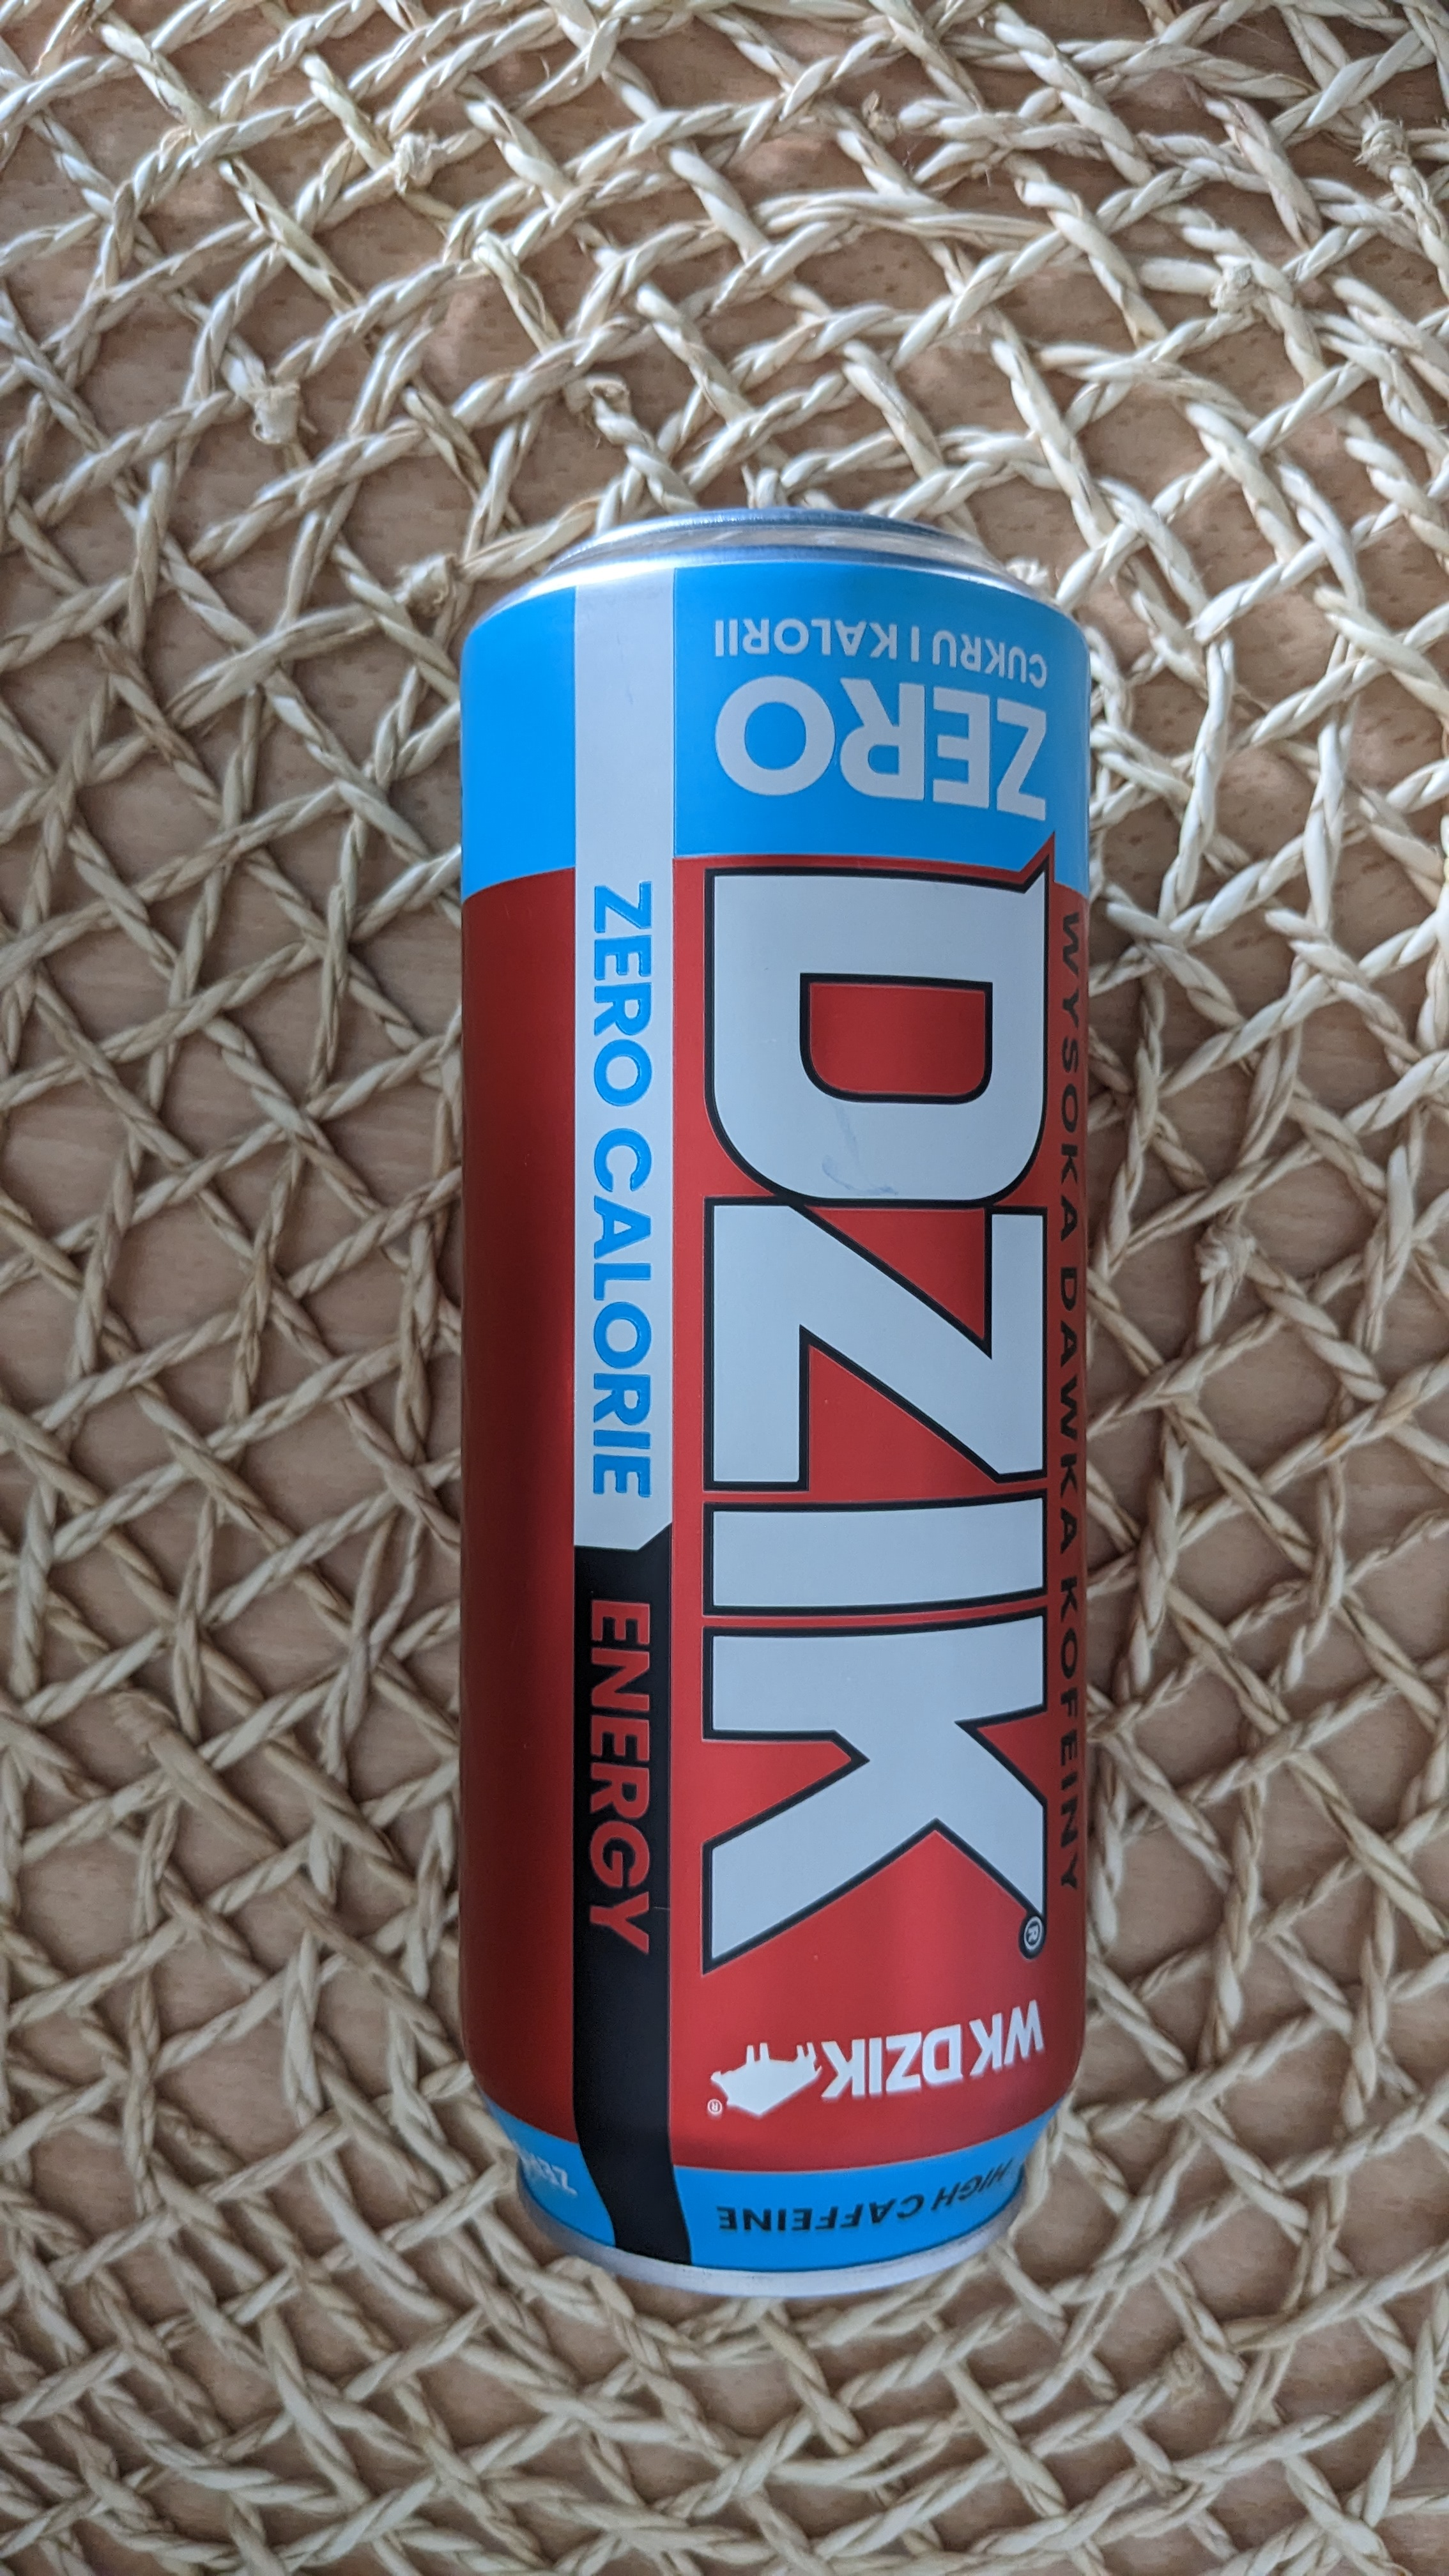dzik: (430, 499, 1090, 2291)
